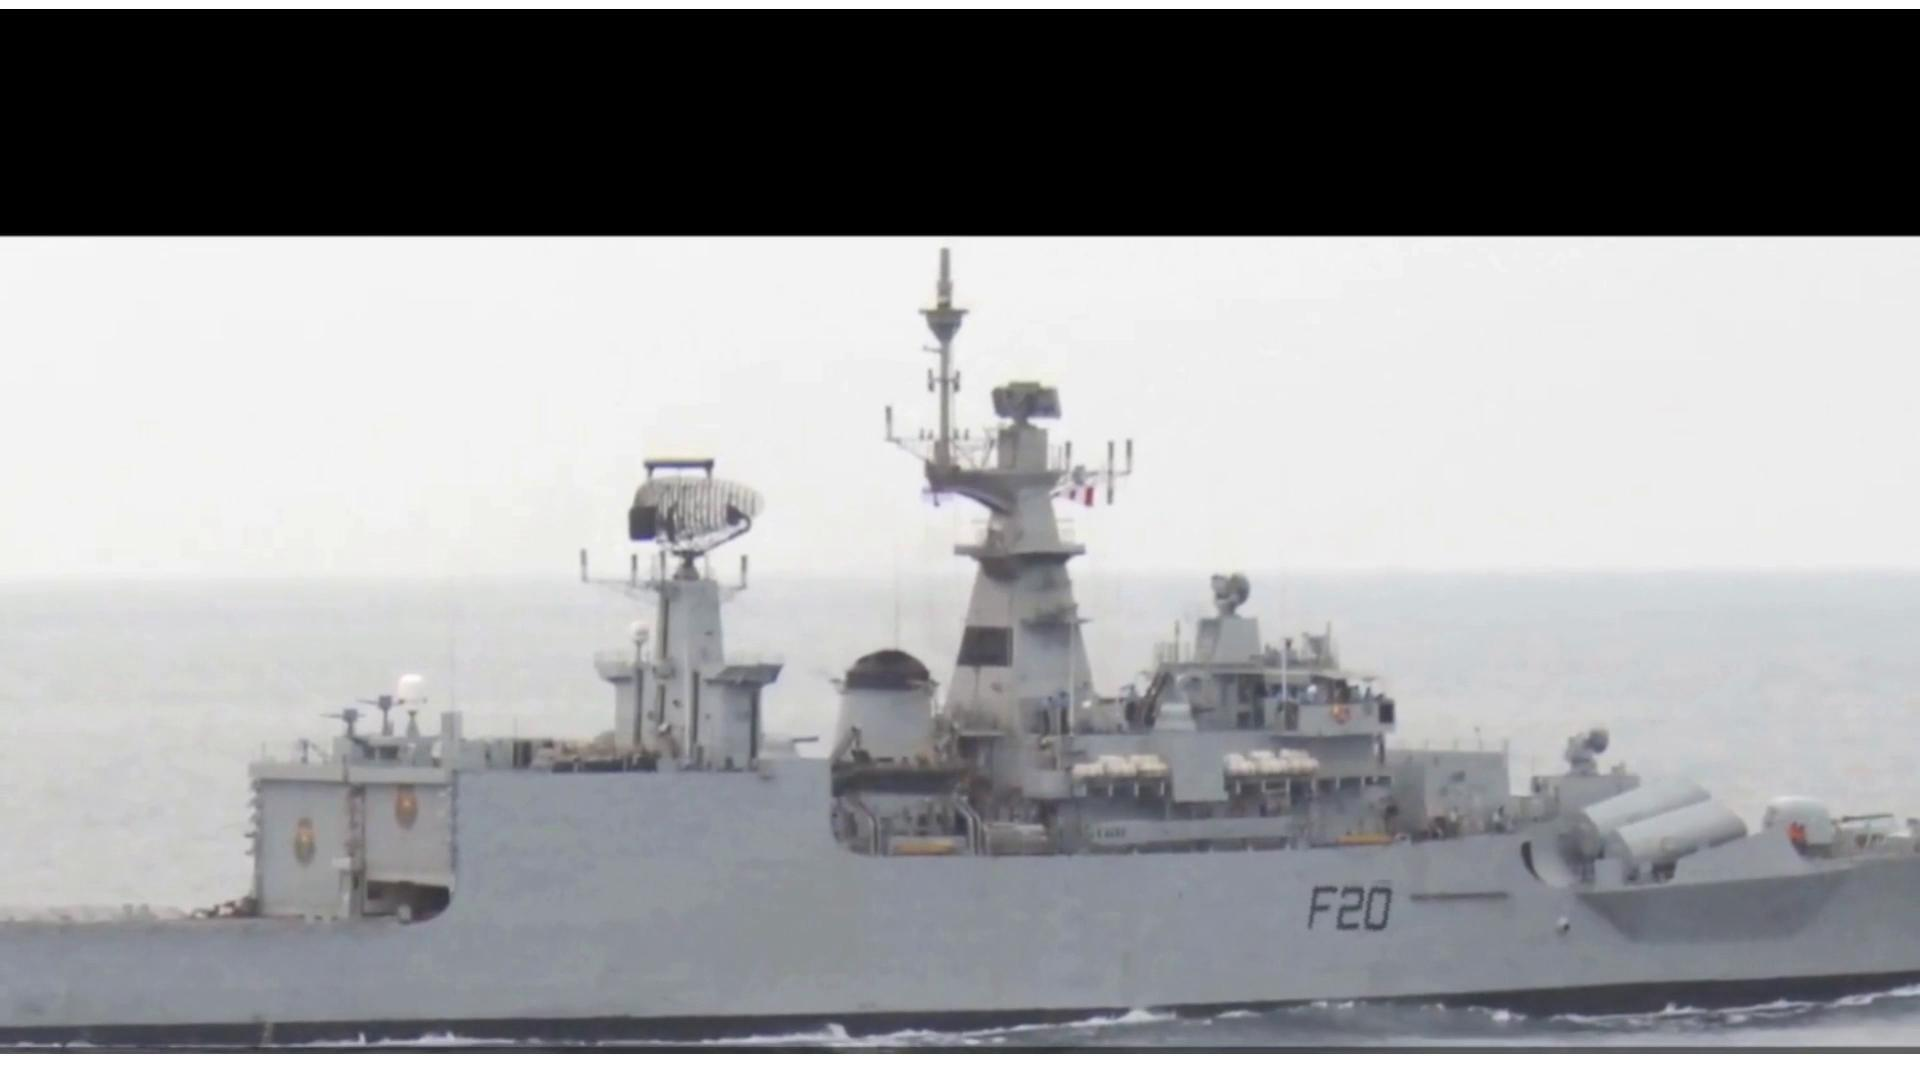OCR: (1296, 875, 1400, 944)
